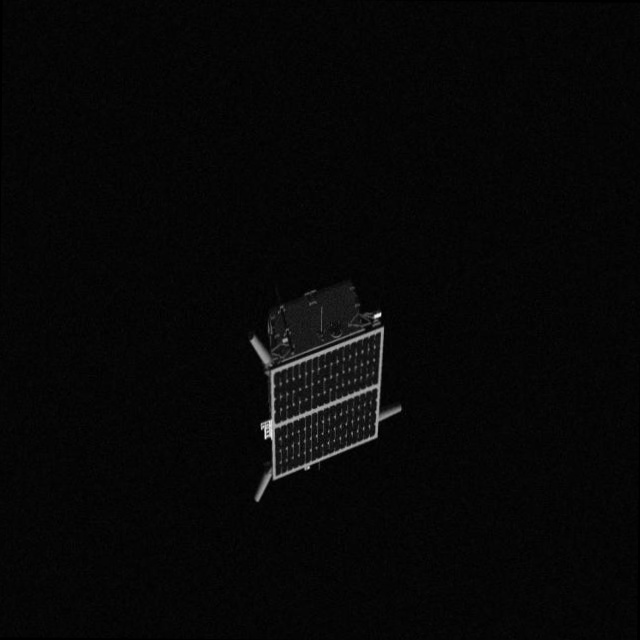medium_debris: (250, 276, 410, 512)
